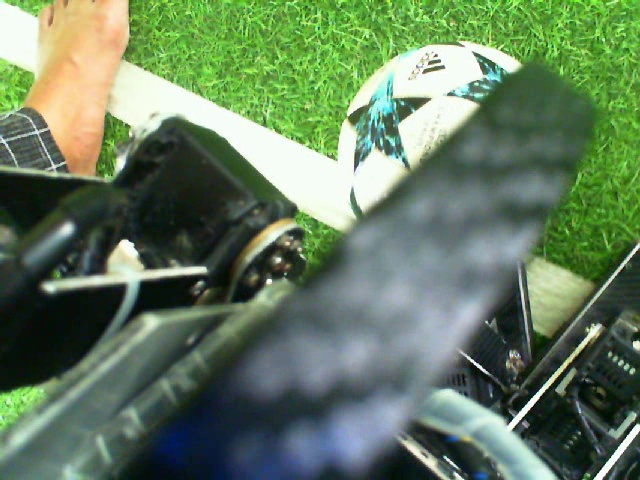ball: (336, 38, 527, 226)
